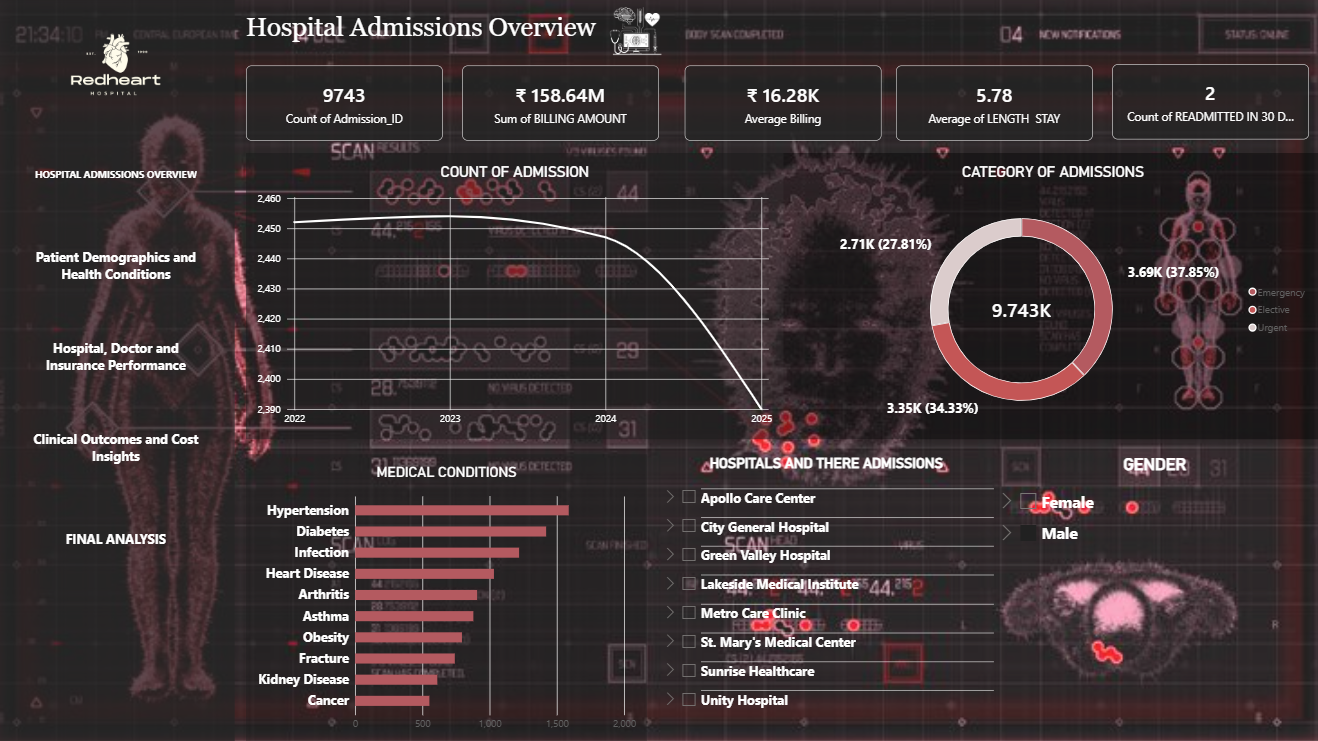

Layout of this report page (visuals, bound fields, positions):
{"tool":"powerbi","page":{"name":"HOSPITAL ADMISSIONS OVERVIEW","canvas":[1920,1080],"ordinal":0},"visuals":[{"type":"card","fields":{"Values":["Sum(hospital_admissions_patient_analytics.Billing_Amount)"]},"box":[675.6,97.8,284.8,108.7],"z":0,"group":"g1"},{"type":"card","fields":{"Values":["Count(hospital_admissions_patient_analytics.Admission_ID)"]},"box":[362.2,97.8,284.8,108.7],"z":1000,"group":"g1"},{"type":"card","fields":{"Values":["Count(hospital_admissions_patient_analytics.Readmitted_30_Days)"]},"box":[1615.6,95.6,284.8,108.7],"z":2000,"group":"g1"},{"type":"card","fields":{"Values":["Avg(hospital_admissions_patient_analytics.Length_of_Stay)"]},"box":[1302.2,97.8,284.8,108.7],"z":3000,"group":"g1"},{"type":"card","fields":{"Values":["hospital_admissions_patient_analytics.Average Billing"]},"box":[997.8,97.8,284.8,108.7],"z":4000,"group":"g1"},{"type":"shape","box":[0,0,345.7,1080.4],"z":5000,"group":"g1"},{"type":"textbox","box":[362.2,20,1082.2,64.4],"z":6000,"group":"g1"},{"type":"image","box":[0,0,346.7,193.3],"z":7000,"group":"g1"},{"type":"image","box":[647.9,0,554.2,95.4],"z":8000,"group":"g1"},{"type":"pageNavigator","box":[38,193.6,271.4,656.9],"z":9000,"group":"g1"},{"type":"lineChart","title":"COUNT OF ADMISSION","fields":{"Category":["hospital_admissions_patient_analytics.Admission_Date.Variation.Date Hierarchy.Year","hospital_admissions_patient_analytics.Admission_Date.Variation.Date Hierarchy.Month"],"Y":["CountNonNull(hospital_admissions_patient_analytics.Admission_Type)"]},"box":[362.3,224.4,778.2,414.4],"z":10000,"group":"g1"},{"type":"donutChart","title":"CATEGORY OF ADMISSIONS","fields":{"Category":["hospital_admissions_patient_analytics.Admission_Type"],"Y":["CountNonNull(hospital_admissions_patient_analytics.Admission_ID)"]},"box":[1140.3,224.4,780,414.4],"z":11000,"group":"g1"},{"type":"slicer","title":"HOSPITALS AND THERE ADMISSIONS","fields":{"Values":["hospital_admissions_patient_analytics.Hospital","hospital_admissions_patient_analytics.Admission_Date"]},"box":[959.2,660.7,485.8,419.9],"z":12000,"group":"g1"},{"type":"slicer","title":"GENDER","fields":{"Values":["hospital_admissions_patient_analytics.Gender","hospital_admissions_patient_analytics.Hospital"]},"box":[1444.9,660.7,467.2,419.9],"z":13000,"group":"g1"},{"type":"clusteredBarChart","title":"MEDICAL CONDITIONS ","fields":{"Y":["CountNonNull(hospital_admissions_patient_analytics.Admission_ID)"],"Category":["hospital_admissions_patient_analytics.Medical_Condition"]},"box":[362.3,660.7,580.4,419.9],"z":14000,"group":"g1"},{"type":"group","id":"g1","title":"Group 1","box":[0,0,1920.1,1080.4],"z":14001}]}

Visuals, with their boxes in screenshot pixels (x1, y1, x2, y2), scaled from the page's 1920x1080 canvas onto the 1318x741 screenshot:
card - Sum(hospital_admissions_patient_analytics.Billing_Amount): (464, 67, 659, 142)
card - Count(hospital_admissions_patient_analytics.Admission_ID): (249, 67, 444, 142)
card - Count(hospital_admissions_patient_analytics.Readmitted_30_Days): (1109, 66, 1305, 140)
card - Avg(hospital_admissions_patient_analytics.Length_of_Stay): (894, 67, 1089, 142)
card - hospital_admissions_patient_analytics.Average Billing: (685, 67, 880, 142)
shape: (0, 0, 237, 740)
textbox: (249, 14, 992, 58)
image: (0, 0, 238, 133)
image: (445, 0, 825, 65)
pageNavigator: (26, 133, 212, 584)
"COUNT OF ADMISSION" lineChart: (249, 154, 783, 438)
"CATEGORY OF ADMISSIONS" donutChart: (783, 154, 1317, 438)
"HOSPITALS AND THERE ADMISSIONS" slicer: (658, 453, 992, 740)
"GENDER" slicer: (992, 453, 1313, 740)
"MEDICAL CONDITIONS " clusteredBarChart: (249, 453, 647, 740)
"Group 1" group: (0, 0, 1317, 740)
